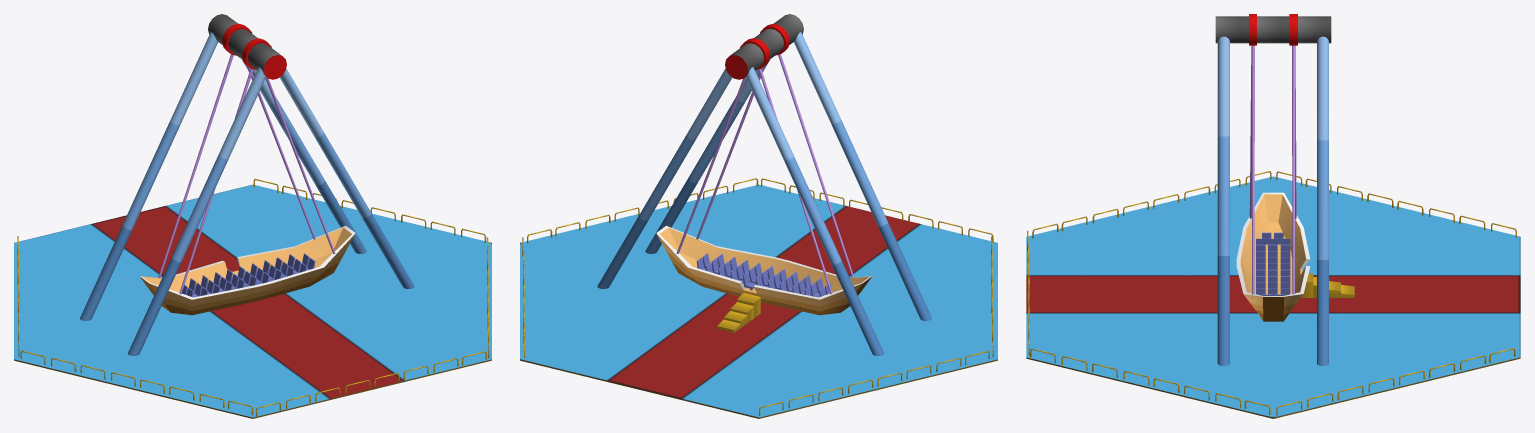
Rendered from ETC0210002.fbx.
3 views of the same model, side by side, from view 1: azimuth 30°, elevation 25°; view 2: azimuth 150°, elevation 25°; view 3: azimuth 270°, elevation 25° (orthographic). The views are drawn at different scales.
Visible parts, largest first — view 1: smETC0210002; view 2: smETC0210002; view 3: smETC0210002.
Part boxes in pixels (x1,y1,x2,y2): smETC0210002: [14, 14, 491, 418]; smETC0210002: [520, 14, 997, 418]; smETC0210002: [1026, 14, 1520, 418].
Size of the model in its own units: 3680 by 1993 by 3187.
Materials: 1 (1 with a texture image).
